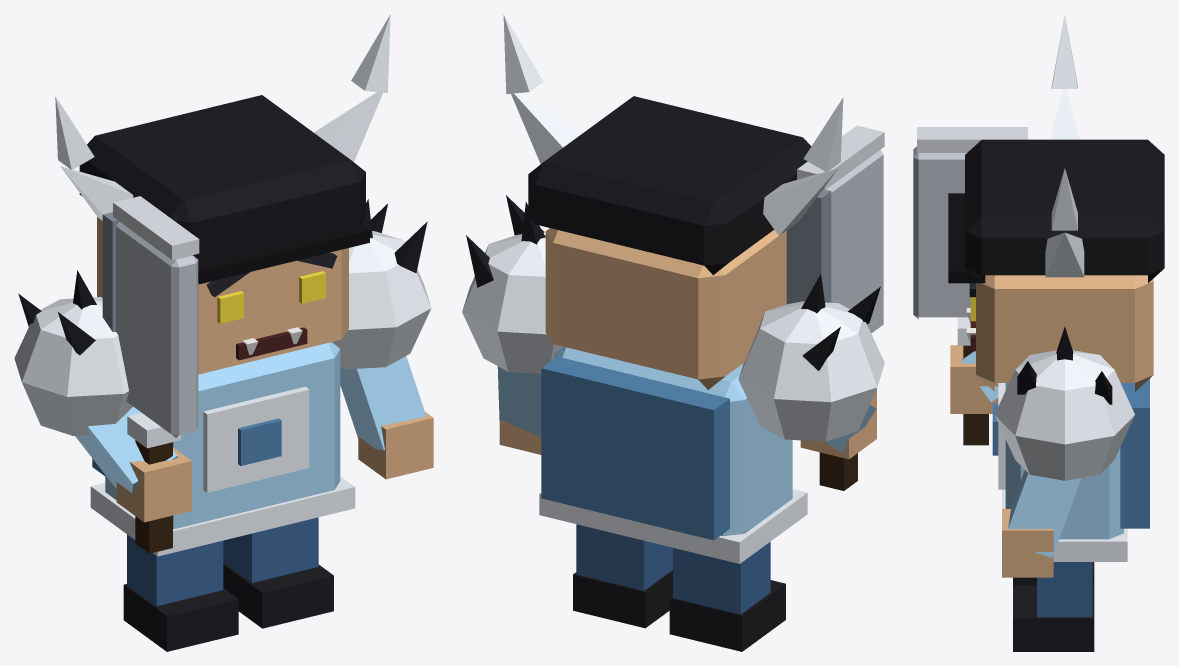
The model's file is warlord_r2.glb.
3 views of the same model, side by side, from view 1: azimuth 30°, elevation 25°; view 2: azimuth 150°, elevation 25°; view 3: azimuth 270°, elevation 25° (orthographic). The views are drawn at different scales.
Parts seen in each view (by area): view 1: warlord_r2_mesh; view 2: warlord_r2_mesh; view 3: warlord_r2_mesh.
Boxes of the visible parts, bbox=[...] form: warlord_r2_mesh: bbox=[14, 14, 433, 651]; warlord_r2_mesh: bbox=[462, 14, 884, 651]; warlord_r2_mesh: bbox=[913, 14, 1164, 651].
Size of the model in its own units: 2.72 by 3.6 by 1.57.
1 material, 1 textured.
